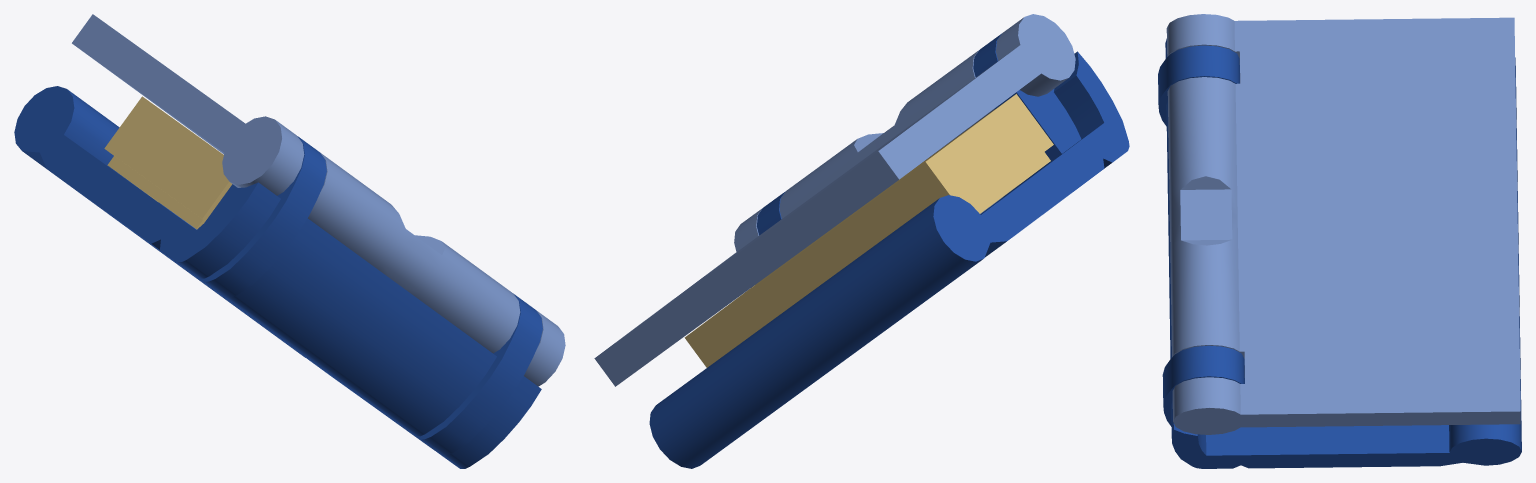
The model's file is Death Star Corridor.fbx_The_Register.fbx.
3 views of the same model, side by side, from view 1: azimuth 30°, elevation 25°; view 2: azimuth 150°, elevation 25°; view 3: azimuth 270°, elevation 25° (orthographic). The views are drawn at different scales.
Visible parts, largest first — view 1: part.858, part.857, part.856; view 2: part.858, part.857, part.856; view 3: part.857, part.858.
Boxes of the visible parts, x1,y1,x2,y2 form: part.858: (14, 86, 542, 468); part.857: (72, 14, 565, 386); part.856: (104, 96, 232, 229); part.858: (649, 33, 1129, 468); part.857: (594, 14, 1075, 386); part.856: (684, 94, 1053, 367); part.857: (1166, 14, 1520, 434); part.858: (1158, 38, 1521, 468).
Size of the model in its own units: 16.07 by 18.8 by 18.04.
